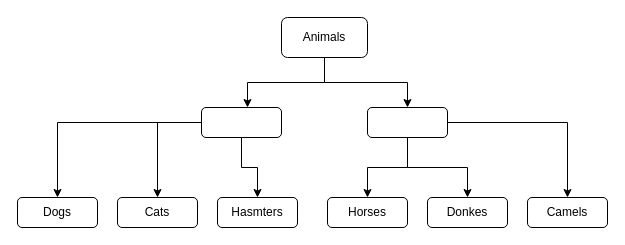
Some shapes in this 625 by 245 pixel diagram are drawn without their labels. Each missing label, with the box of its shape:
PackAnimals: (366, 106, 448, 138)
Pets: (200, 106, 282, 138)
